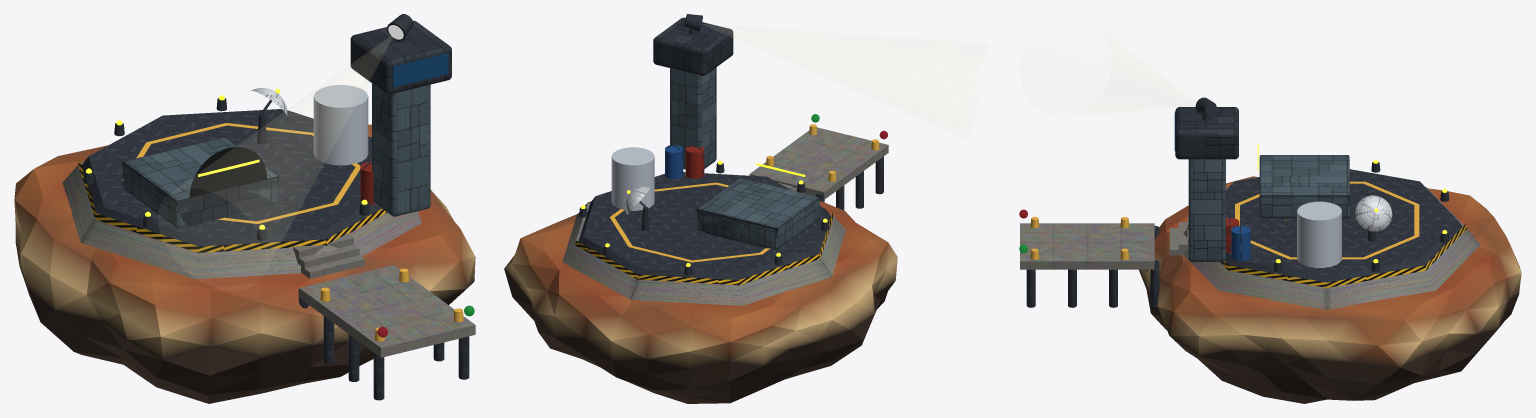
The model's file is garrison-L100.glb.
3 views of the same model, side by side, from view 1: azimuth 30°, elevation 25°; view 2: azimuth 150°, elevation 25°; view 3: azimuth 270°, elevation 25° (orthographic). The views are drawn at different scales.
Visible parts, largest first — view 1: object 1, object 4, object 25, object 2, object 49, object 38, object 48, object 50, object 39, object 40, object 3, object 5 (+10 smaller); view 2: object 1, object 4, object 2, object 38, object 25, object 49, object 50, object 48, object 3, object 39, object 5, object 42 (+1 smaller); view 3: object 1, object 4, object 2, object 25, object 38, object 49, object 50, object 48, object 3, anim:rot, object 5, object 45.
Boxes of the visible parts, x1,y1,x2,y2 form: object 1: (14,124,475,403); object 4: (81,109,381,246); object 25: (299,265,475,357); object 2: (62,161,421,278); object 49: (372,83,430,216); object 38: (123,137,277,228); object 48: (313,85,368,165); object 50: (350,20,451,94); object 39: (122,161,278,226); object 40: (189,147,267,197); object 3: (78,160,386,252); object 5: (122,123,360,223); object 1: (504,201,897,403); object 4: (578,172,830,279); object 2: (562,201,845,305); object 38: (697,178,819,249); object 25: (749,127,888,199); object 49: (670,67,716,169); object 50: (653,17,733,75); object 48: (611,147,654,210); object 3: (575,212,833,285); object 39: (696,197,820,248); object 5: (609,182,770,262); object 42: (685,146,704,178); object 1: (1139,176,1521,403); object 4: (1225,169,1462,282); object 2: (1183,186,1480,309); object 25: (1020,223,1154,269); object 38: (1259,155,1349,218); object 49: (1188,159,1225,261); object 50: (1175,107,1238,159); object 48: (1297,201,1341,267); object 3: (1187,224,1466,287); anim:rot: (1355,195,1392,231); object 5: (1235,181,1419,259); object 45: (1231,226,1250,260).
Size of the model in its own units: 5.41 by 4.47 by 6.7.
22 materials, 7 textured.
